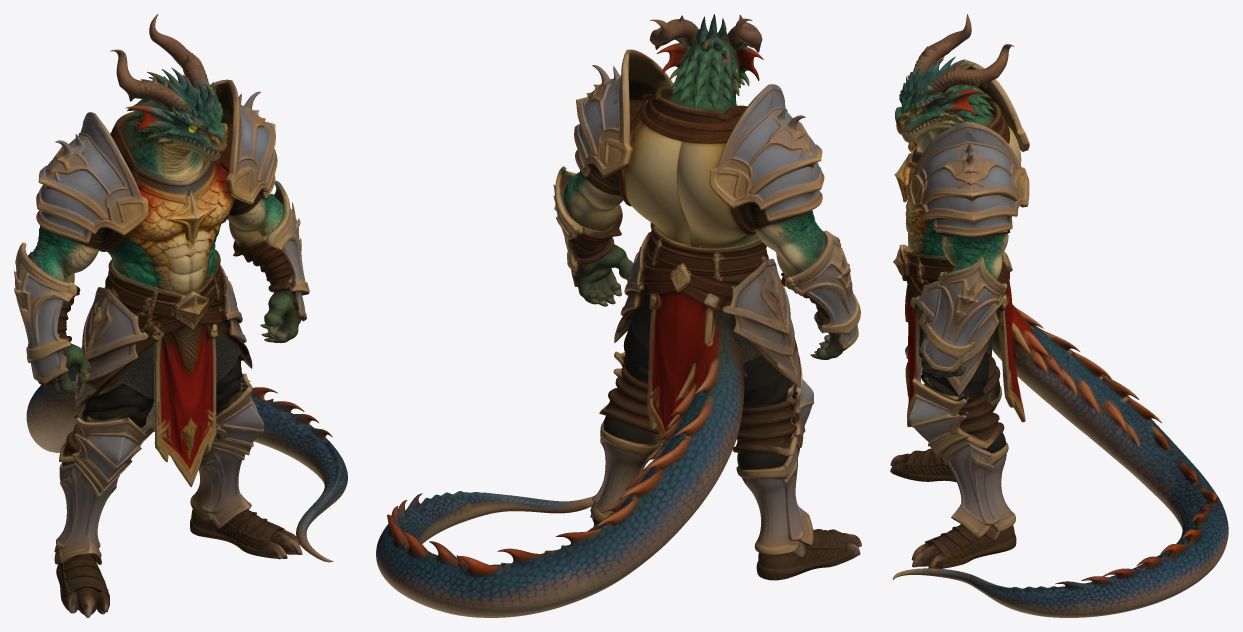
Rendered from dragonborn_paladin_full_male_01.glb.
3 views of the same model, side by side, from view 1: azimuth 30°, elevation 25°; view 2: azimuth 150°, elevation 25°; view 3: azimuth 270°, elevation 25° (orthographic). The views are drawn at different scales.
Visible parts, largest first — view 1: material; view 2: material; view 3: material.
Boxes of the visible parts, <box> form: material: <box>14,14,347,617</box>; material: <box>376,14,861,617</box>; material: <box>890,14,1228,617</box>.
Bounding box in the file's own units: 0.6757 × 0.909 × 0.5751.
Materials: 1 (1 with a texture image).
